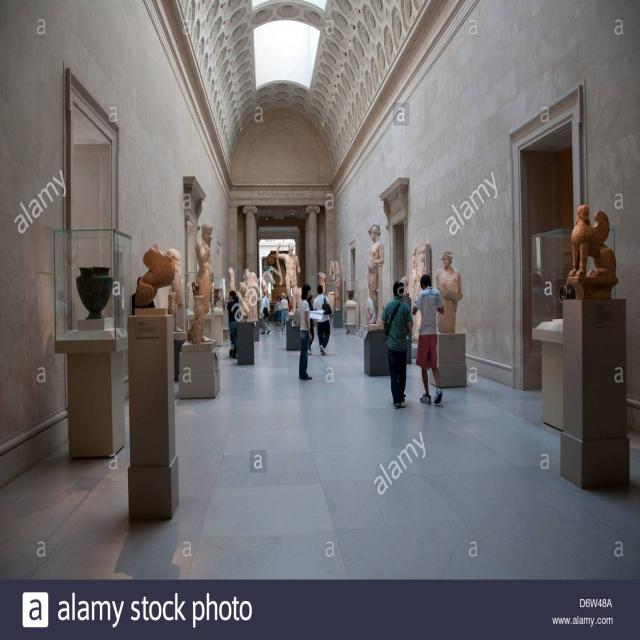body: (570, 200, 619, 298), (411, 272, 446, 406), (380, 278, 415, 410), (194, 220, 215, 342), (436, 249, 464, 335), (298, 282, 314, 381), (313, 283, 333, 356), (364, 223, 386, 289), (274, 242, 301, 294), (530, 270, 554, 322), (132, 276, 156, 316), (226, 290, 239, 360), (53, 289, 70, 336), (329, 259, 343, 304), (306, 294, 316, 356), (258, 291, 272, 335), (366, 289, 378, 339), (278, 292, 290, 335), (273, 295, 282, 326), (285, 296, 293, 312)
